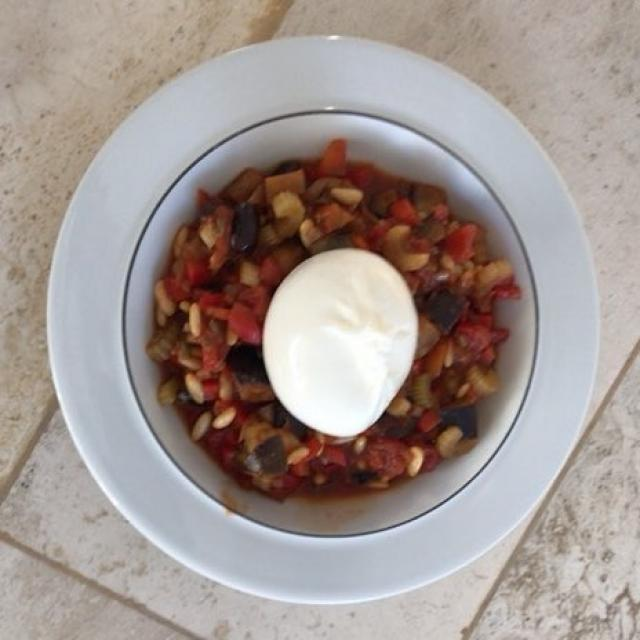ratatouille: (145, 152, 518, 498)
